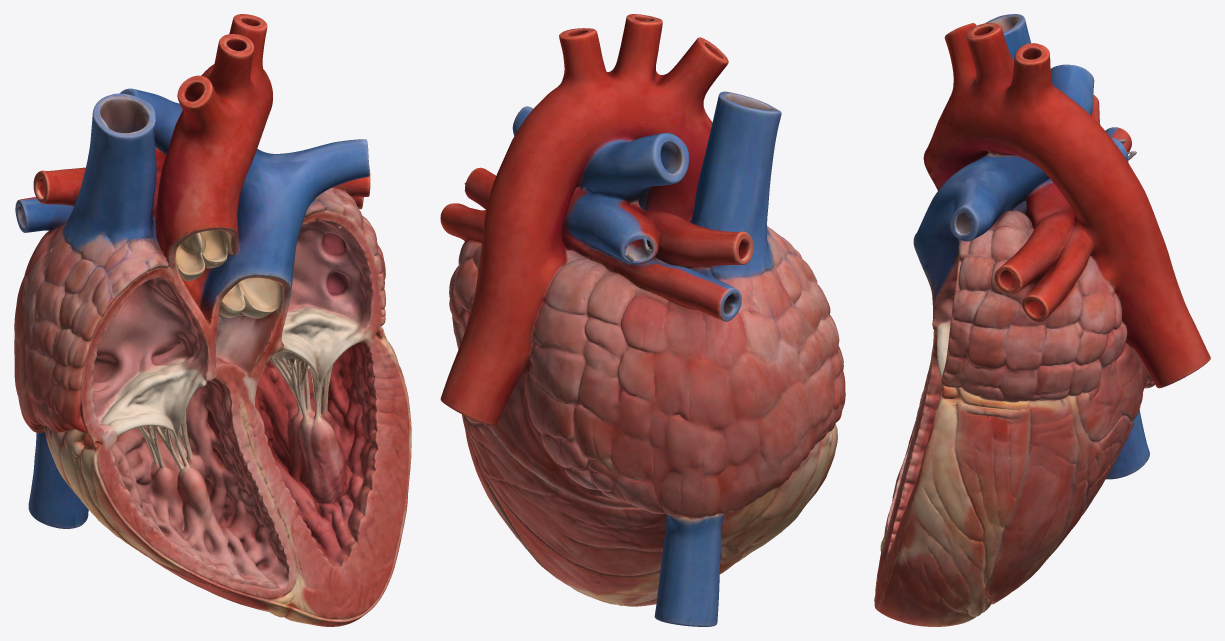
Rendered from human-heart-optimized.glb.
The picture shows the model from 3 angles, left to right: view 1: azimuth 30°, elevation 25°; view 2: azimuth 150°, elevation 25°; view 3: azimuth 270°, elevation 25°; orthographic projection. The views are drawn at different scales.
Parts seen in each view (by area): view 1: human-heart-cutaway; view 2: human-heart-cutaway; view 3: human-heart-cutaway.
Part boxes in pixels (x1=…): human-heart-cutaway: x1=14, y1=14, x2=411, y2=626; human-heart-cutaway: x1=440, y1=14, x2=845, y2=626; human-heart-cutaway: x1=874, y1=14, x2=1210, y2=626.
Size of the model in its own units: 0.0827 by 0.13 by 0.0701.
1 material, 1 textured.
